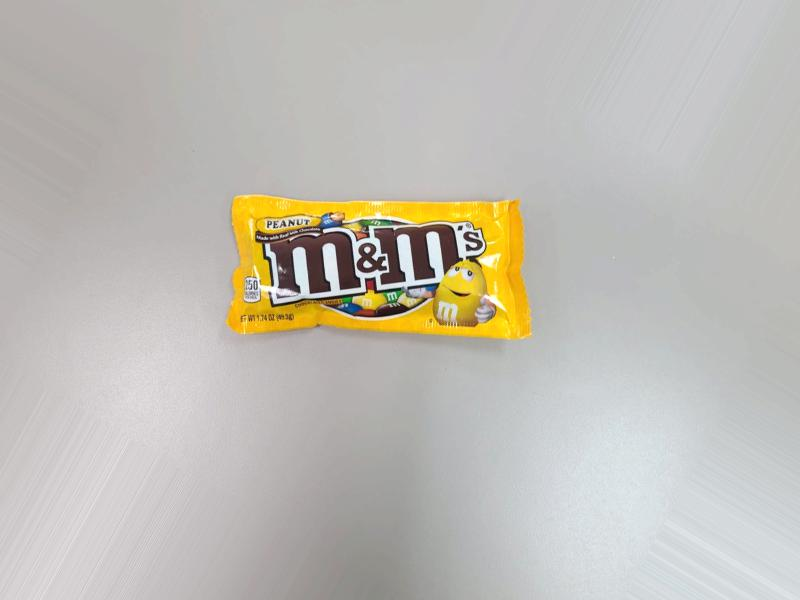m&m: (231, 158, 546, 346)
